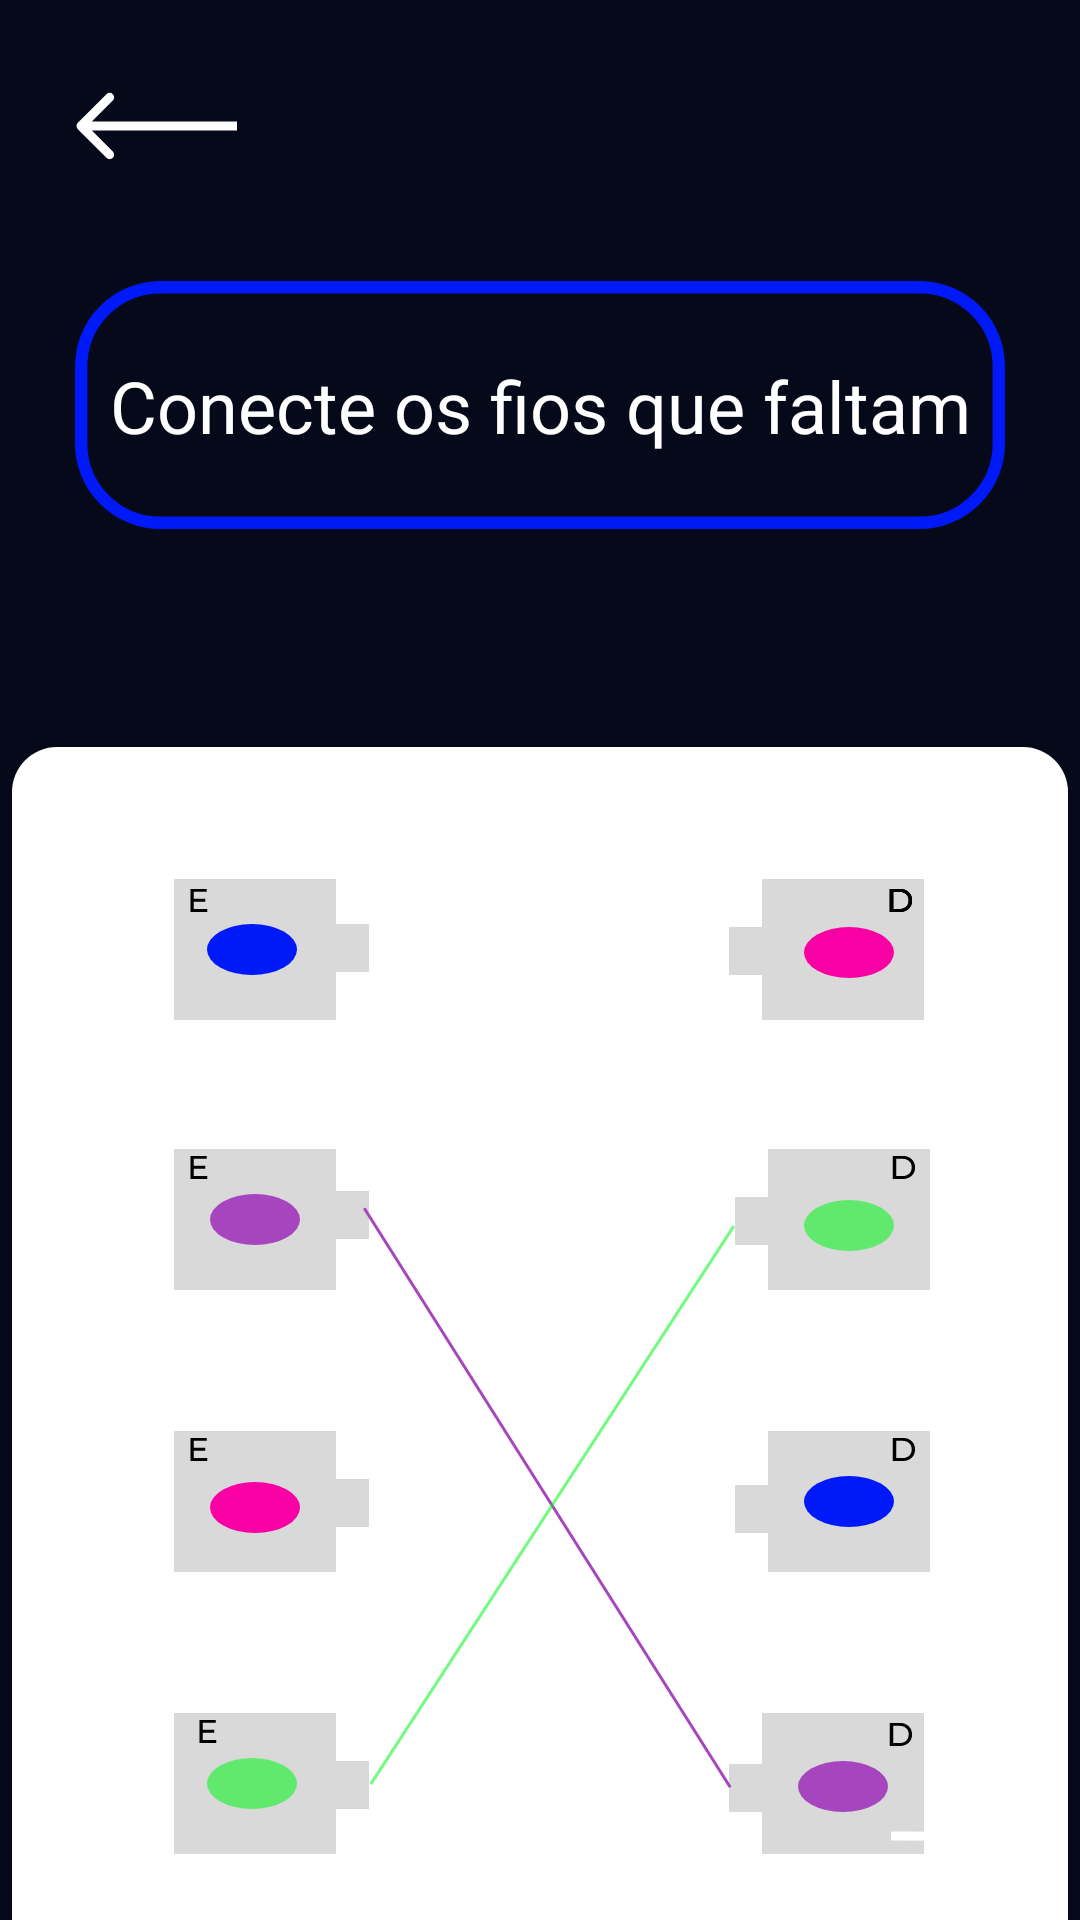

Screen size 1080px x 1920px. Icon name, then its center in pixels as (x,y):
phases back arrow: (156,126)
